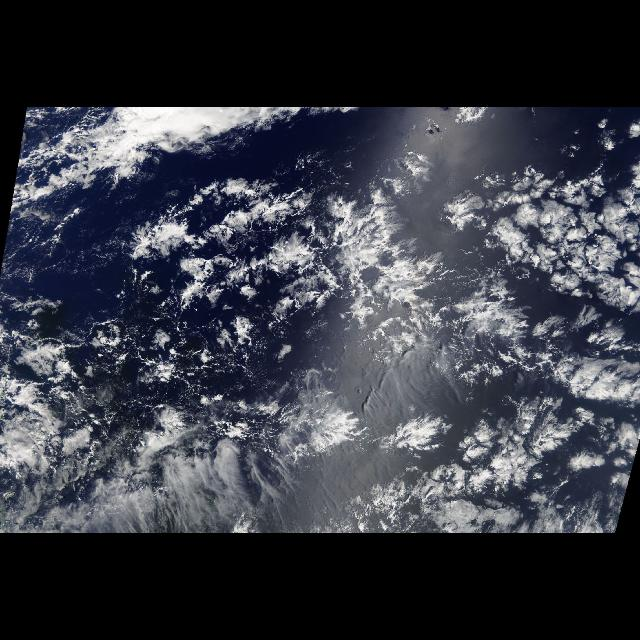Fish: (134, 184, 418, 310), (363, 396, 587, 516)
Flower: (84, 166, 638, 407)
Gravel: (82, 306, 272, 404)
